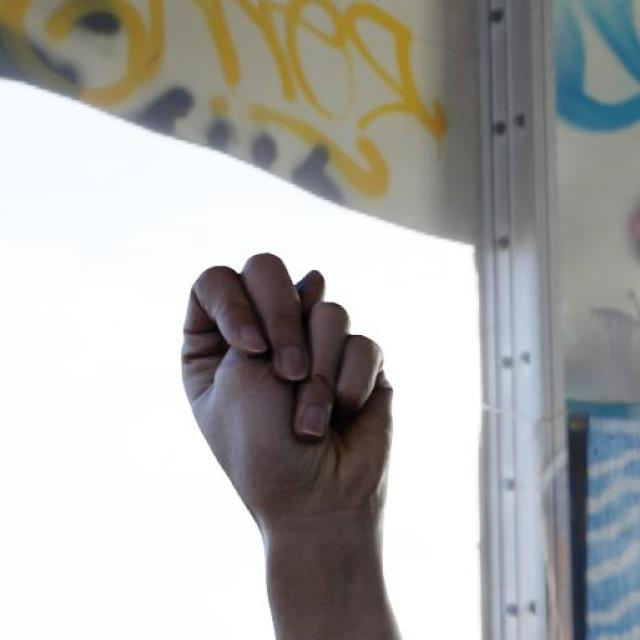N: (176, 246, 398, 522)
